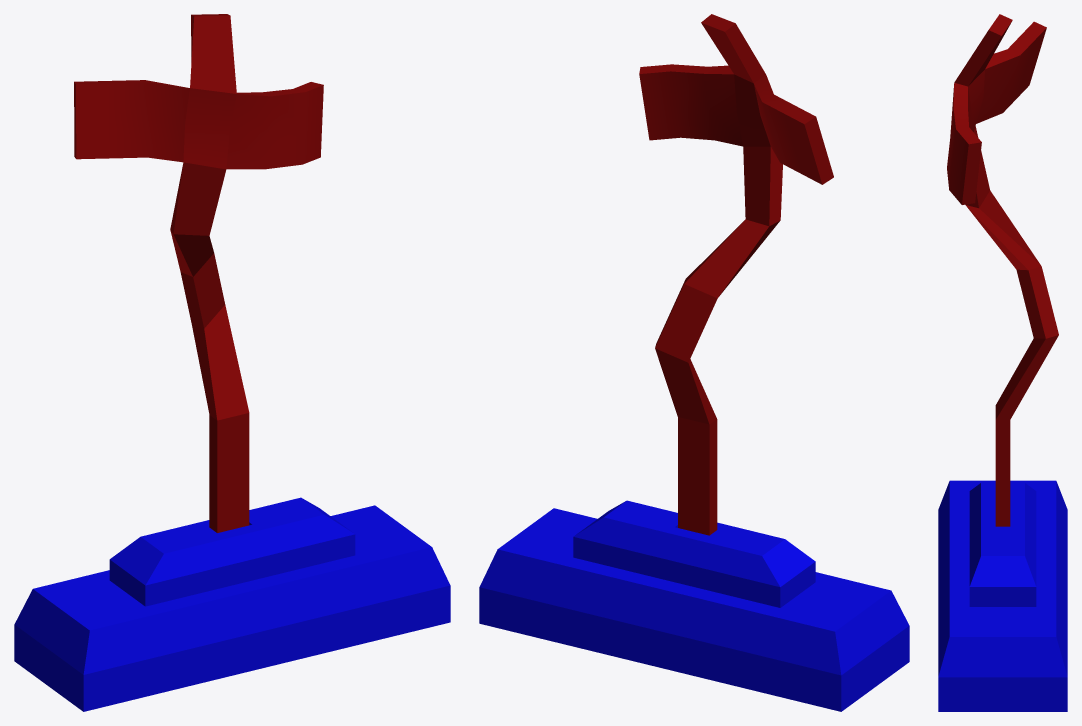
Rendered from cross_tomb.fbx.
3 renders of one model, left to right at view 1: azimuth 30°, elevation 25°; view 2: azimuth 150°, elevation 25°; view 3: azimuth 270°, elevation 25°, orthographic. The views are drawn at different scales.
Visible parts, largest first — view 1: cross_tomb; view 2: cross_tomb; view 3: cross_tomb.
Part boxes in pixels (x1=…): cross_tomb: x1=14, y1=14, x2=450, y2=711; cross_tomb: x1=479, y1=14, x2=909, y2=711; cross_tomb: x1=938, y1=14, x2=1067, y2=711.
Size of the model in its own units: 52.03 by 86.27 by 16.98.
